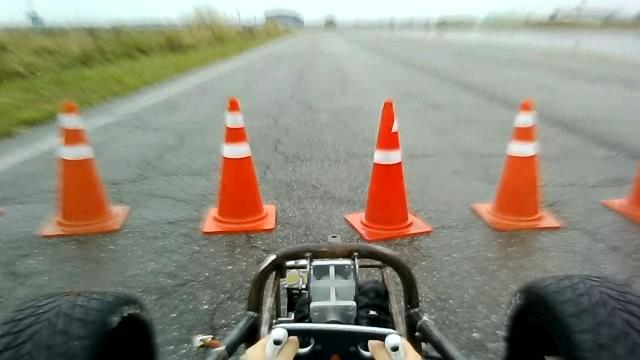red cone: (343, 98, 433, 241), (40, 100, 130, 238), (471, 97, 562, 232), (201, 95, 277, 234)
